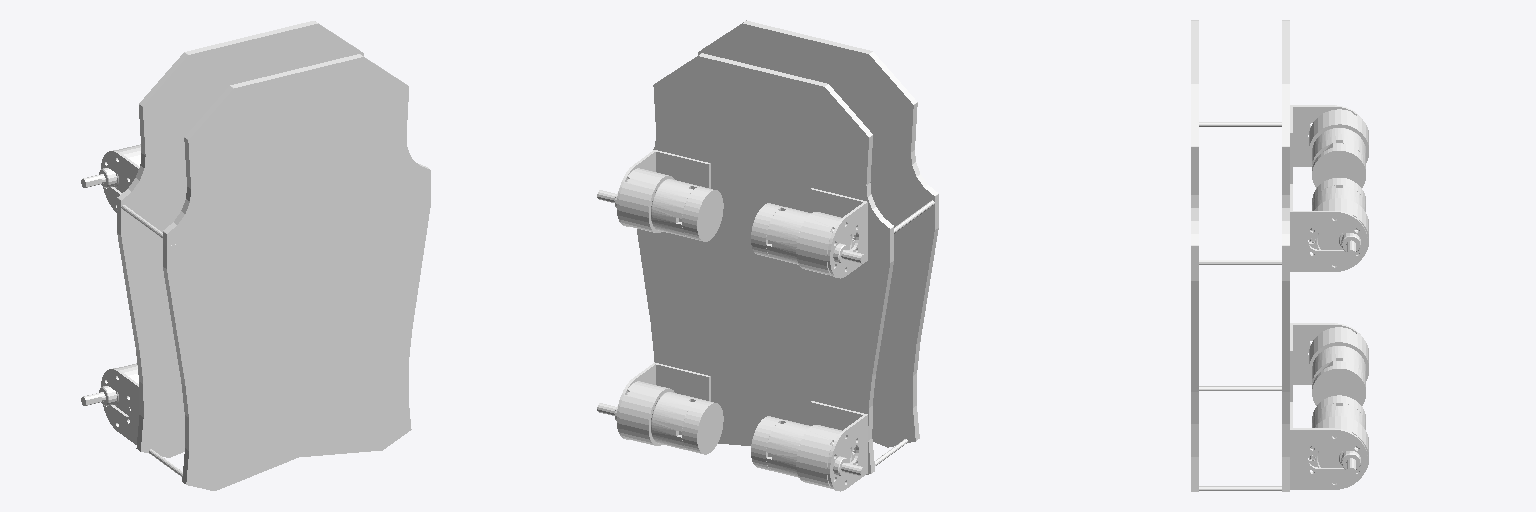
The robot description file, URDF, robot "CyberNaviRobot":
<?xml version="1.0" encoding="utf-8"?>
<robot
  name="CyberNaviRobot">
  <link
    name="base_link">
    <inertial>
      <origin
        xyz="-0.0126930979005275 0.00191328701604972 0.138027242309266"
        rpy="0 0 0" />
      <mass
        value="1.02316767990512" />
      <inertia
        ixx="0.00139586884914313"
        ixy="-1.1634425915606E-06"
        ixz="2.08900696909113E-08"
        iyy="0.00163816424060367"
        iyz="1.3906877128818E-07"
        izz="0.00212627787861002" />
    </inertial>
    <visual>
      <origin
        xyz="0 0 0"
        rpy="0 0 0" />
      <geometry>
        <mesh
          filename="package://cpp01_urdf/meshes/base_link.STL" />
      </geometry>
      <material
        name="">
        <color
          rgba="1 1 1 1" />
      </material>
    </visual>
    <collision>
      <origin
        xyz="0 0 0"
        rpy="0 0 0" />
      <geometry>
        <mesh
          filename="package://cpp01_urdf/meshes/base_link.STL" />
      </geometry>
    </collision>
  </link>
  <link
    name="left_front_wheel_link">
    <inertial>
      <origin
        xyz="-3.0979511909876E-06 0.0173322020637727 4.43766253017258E-06"
        rpy="0 0 0" />
      <mass
        value="0.0503853041294886" />
      <inertia
        ixx="5.77203859894131E-06"
        ixy="-6.39490308551869E-10"
        ixz="-6.55101507497994E-10"
        iyy="7.74120907350755E-06"
        iyz="1.14467480632514E-09"
        izz="5.77288622221224E-06" />
    </inertial>
    <visual>
      <origin
        xyz="0 0 0"
        rpy="0 0 0" />
      <geometry>
        <mesh
          filename="package://cpp01_urdf/meshes/left_front_wheel_link.STL" />
      </geometry>
      <material
        name="">
        <color
          rgba="1 1 1 1" />
      </material>
    </visual>
    <collision>
      <origin
        xyz="0 0 0"
        rpy="0 0 0" />
      <geometry>
        <mesh
          filename="package://cpp01_urdf/meshes/left_front_wheel_link.STL" />
      </geometry>
    </collision>
  </link>
  <joint
    name="left_front_wheel_joint"
    type="continuous">
    <origin
      xyz="0.094976 0.076703 0.038001"
      rpy="0 0 0" />
    <parent
      link="base_link" />
    <child
      link="left_front_wheel_link" />
    <axis
      xyz="0 1 0" />
  </joint>
  <link
    name="left_rear_wheel_link">
    <inertial>
      <origin
        xyz="-3.06188346035907E-06 0.017331873242395 -5.84140984641324E-06"
        rpy="0 0 0" />
      <mass
        value="0.0503852022031433" />
      <inertia
        ixx="5.7719914844331E-06"
        ixy="-6.47591418647473E-10"
        ixz="6.3996728285628E-10"
        iyy="7.74122667602425E-06"
        iyz="-1.13209672720901E-09"
        izz="5.77285855433357E-06" />
    </inertial>
    <visual>
      <origin
        xyz="0 0 0"
        rpy="0 0 0" />
      <geometry>
        <mesh
          filename="package://cpp01_urdf/meshes/left_rear_wheel_link.STL" />
      </geometry>
      <material
        name="">
        <color
          rgba="1 1 1 1" />
      </material>
    </visual>
    <collision>
      <origin
        xyz="0 0 0"
        rpy="0 0 0" />
      <geometry>
        <mesh
          filename="package://cpp01_urdf/meshes/left_rear_wheel_link.STL" />
      </geometry>
    </collision>
  </link>
  <joint
    name="left_rear_wheel_joint"
    type="continuous">
    <origin
      xyz="-0.078024 0.076703 0.038001"
      rpy="0 0 0" />
    <parent
      link="base_link" />
    <child
      link="left_rear_wheel_link" />
    <axis
      xyz="0 1 0" />
  </joint>
  <link
    name="right_front_wheel_link">
    <inertial>
      <origin
        xyz="3.06240360546661E-06 -0.0173318735620233 -5.84117647387666E-06"
        rpy="0 0 0" />
      <mass
        value="0.0503852021760132" />
      <inertia
        ixx="5.77199099297903E-06"
        ixy="-6.47832070333766E-10"
        ixz="-6.39570296767498E-10"
        iyy="7.74122684098967E-06"
        iyz="1.13229861557678E-09"
        izz="5.7728593340892E-06" />
    </inertial>
    <visual>
      <origin
        xyz="0 0 0"
        rpy="0 0 0" />
      <geometry>
        <mesh
          filename="package://cpp01_urdf/meshes/right_front_wheel_link.STL" />
      </geometry>
      <material
        name="">
        <color
          rgba="1 1 1 1" />
      </material>
    </visual>
    <collision>
      <origin
        xyz="0 0 0"
        rpy="0 0 0" />
      <geometry>
        <mesh
          filename="package://cpp01_urdf/meshes/right_front_wheel_link.STL" />
      </geometry>
    </collision>
  </link>
  <joint
    name="right_front_wheel_joint"
    type="continuous">
    <origin
      xyz="0.094976 -0.075297 0.038001"
      rpy="0 0 0" />
    <parent
      link="base_link" />
    <child
      link="right_front_wheel_link" />
    <axis
      xyz="0 1 0" />
  </joint>
  <link
    name="right_rear_wheel_link">
    <inertial>
      <origin
        xyz="3.09795119093903E-06 -0.0173322020637727 4.43766253057504E-06"
        rpy="0 0 0" />
      <mass
        value="0.0503853041294886" />
      <inertia
        ixx="5.77203859894127E-06"
        ixy="-6.39490308545873E-10"
        ixz="6.55101507484353E-10"
        iyy="7.7412090735075E-06"
        iyz="-1.14467480634659E-09"
        izz="5.77288622221223E-06" />
    </inertial>
    <visual>
      <origin
        xyz="0 0 0"
        rpy="0 0 0" />
      <geometry>
        <mesh
          filename="package://cpp01_urdf/meshes/right_rear_wheel_link.STL" />
      </geometry>
      <material
        name="">
        <color
          rgba="1 1 1 1" />
      </material>
    </visual>
    <collision>
      <origin
        xyz="0 0 0"
        rpy="0 0 0" />
      <geometry>
        <mesh
          filename="package://cpp01_urdf/meshes/right_rear_wheel_link.STL" />
      </geometry>
    </collision>
  </link>
  <joint
    name="right_rear_wheel_joint"
    type="continuous">
    <origin
      xyz="-0.078024 -0.075297 0.038001"
      rpy="0 0 0" />
    <parent
      link="base_link" />
    <child
      link="right_rear_wheel_link" />
    <axis
      xyz="0 1 0" />
  </joint>
  <link
    name="link1">
    <inertial>
      <origin
        xyz="0.00667902683248248 -0.000617925084982596 0.0234455072147809"
        rpy="0 0 0" />
      <mass
        value="0.0586503298513903" />
      <inertia
        ixx="1.45885437825898E-05"
        ixy="1.52166973047874E-07"
        ixz="-6.11635522611016E-11"
        iyy="1.53643210446061E-05"
        iyz="1.45081779343097E-07"
        izz="2.71785457903366E-05" />
    </inertial>
    <visual>
      <origin
        xyz="0 0 0"
        rpy="0 0 0" />
      <geometry>
        <mesh
          filename="package://cpp01_urdf/meshes/link1.STL" />
      </geometry>
      <material
        name="">
        <color
          rgba="0.741176470588235 0.901960784313726 0.956862745098039 1" />
      </material>
    </visual>
    <collision>
      <origin
        xyz="0 0 0"
        rpy="0 0 0" />
      <geometry>
        <mesh
          filename="package://cpp01_urdf/meshes/link1.STL" />
      </geometry>
    </collision>
  </link>
  <joint
    name="joint1"
    type="revolute">
    <origin
      xyz="0.054476 0.00070272 0.156"
      rpy="0 0 0" />
    <parent
      link="base_link" />
    <child
      link="link1" />
    <axis
      xyz="0 0 -1" />
    <limit
      lower="-1.57"
      upper="1.57"
      effort="0"
      velocity="0" />
  </joint>
  <link
    name="link2">
    <inertial>
      <origin
        xyz="-9.85322934354826E-16 -0.0187068878492825 0.0525000000000002"
        rpy="0 0 0" />
      <mass
        value="0.0182961255655768" />
      <inertia
        ixx="1.62397575138106E-05"
        ixy="1.347414273068E-20"
        ixz="1.05563798552101E-19"
        iyy="7.56857037469834E-06"
        iyz="1.05493260809061E-20"
        izz="1.05132687532735E-05" />
    </inertial>
    <visual>
      <origin
        xyz="0 0 0"
        rpy="0 0 0" />
      <geometry>
        <mesh
          filename="package://cpp01_urdf/meshes/link2.STL" />
      </geometry>
      <material
        name="">
        <color
          rgba="0.741176470588235 0.901960784313726 0.956862745098039 1" />
      </material>
    </visual>
    <collision>
      <origin
        xyz="0 0 0"
        rpy="0 0 0" />
      <geometry>
        <mesh
          filename="package://cpp01_urdf/meshes/link2.STL" />
      </geometry>
    </collision>
  </link>
  <joint
    name="joint2"
    type="revolute">
    <origin
      xyz="0.0005 0.0227 0.0315"
      rpy="0 0 0" />
    <parent
      link="link1" />
    <child
      link="link2" />
    <axis
      xyz="0 -1 0" />
    <limit
      lower="-1.57"
      upper="1.57"
      effort="0"
      velocity="0" />
  </joint>
  <link
    name="link3">
    <inertial>
      <origin
        xyz="-0.00111507938513392 -0.0229699776837651 0.022150414355608"
        rpy="0 0 0" />
      <mass
        value="0.049761015025666" />
      <inertia
        ixx="1.97699131875969E-05"
        ixy="1.45081779342829E-07"
        ixz="-1.29484660544253E-07"
        iyy="1.16329572702889E-05"
        iyz="1.52071961891174E-07"
        izz="1.21511693273578E-05" />
    </inertial>
    <visual>
      <origin
        xyz="0 0 0"
        rpy="0 0 0" />
      <geometry>
        <mesh
          filename="package://cpp01_urdf/meshes/link3.STL" />
      </geometry>
      <material
        name="">
        <color
          rgba="0.741176470588235 0.901960784313726 0.956862745098039 1" />
      </material>
    </visual>
    <collision>
      <origin
        xyz="0 0 0"
        rpy="0 0 0" />
      <geometry>
        <mesh
          filename="package://cpp01_urdf/meshes/link3.STL" />
      </geometry>
    </collision>
  </link>
  <joint
    name="joint3"
    type="revolute">
    <origin
      xyz="0 0.001 0.105"
      rpy="0 0 0" />
    <parent
      link="link2" />
    <child
      link="link3" />
    <axis
      xyz="0 1 0" />
    <limit
      lower="-1.57"
      upper="1.57"
      effort="0"
      velocity="0" />
  </joint>
  <link
    name="link4">
    <inertial>
      <origin
        xyz="-0.0213103124095009 -0.0185844162741873 0.0110816058821624"
        rpy="0 0 0" />
      <mass
        value="0.0878001321766832" />
      <inertia
        ixx="2.46599779245465E-05"
        ixy="1.45021327668014E-07"
        ixz="-2.90593993899019E-07"
        iyy="1.6070287359599E-05"
        iyz="3.04143941476546E-07"
        izz="1.79892545898004E-05" />
    </inertial>
    <visual>
      <origin
        xyz="0 0 0"
        rpy="0 0 0" />
      <geometry>
        <mesh
          filename="package://cpp01_urdf/meshes/link4.STL" />
      </geometry>
      <material
        name="">
        <color
          rgba="0.741176470588235 0.901960784313726 0.956862745098039 1" />
      </material>
    </visual>
    <collision>
      <origin
        xyz="0 0 0"
        rpy="0 0 0" />
      <geometry>
        <mesh
          filename="package://cpp01_urdf/meshes/link4.STL" />
      </geometry>
    </collision>
  </link>
  <joint
    name="joint4"
    type="revolute">
    <origin
      xyz="0.0010378 -0.0015 0.0975"
      rpy="0 0 0" />
    <parent
      link="link3" />
    <child
      link="link4" />
    <axis
      xyz="0 1 0" />
    <limit
      lower="-0.8"
      upper="1.57"
      effort="0"
      velocity="0" />
  </joint>
  <link
    name="link5">
    <inertial>
      <origin
        xyz="0.0170982452822612 -0.00181857593758557 0.0338763871147772"
        rpy="0 0 0" />
      <mass
        value="0.0430173483223723" />
      <inertia
        ixx="8.16764387727323E-06"
        ixy="-1.64540582497823E-09"
        ixz="-9.56284780635361E-11"
        iyy="5.73687952145364E-06"
        iyz="-1.62969767998056E-08"
        izz="1.08202419601291E-05" />
    </inertial>
    <visual>
      <origin
        xyz="0 0 0"
        rpy="0 0 0" />
      <geometry>
        <mesh
          filename="package://cpp01_urdf/meshes/link5.STL" />
      </geometry>
      <material
        name="">
        <color
          rgba="0.741176470588235 0.901960784313726 0.956862745098039 1" />
      </material>
    </visual>
    <collision>
      <origin
        xyz="0 0 0"
        rpy="0 0 0" />
      <geometry>
        <mesh
          filename="package://cpp01_urdf/meshes/link5.STL" />
      </geometry>
    </collision>
  </link>
  <joint
    name="joint5"
    type="revolute">
    <origin
      xyz="-0.027 -0.0222 0.0432"
      rpy="0 0 0" />
    <parent
      link="link4" />
    <child
      link="link5" />
    <axis
      xyz="0 0 -1" />
    <limit
      lower="-1.57"
      upper="1.57"
      effort="0"
      velocity="0" />
  </joint>
  <link
    name="link6">
    <inertial>
      <origin
        xyz="-0.000194093105239088 -0.00406170911599912 0.00427793516199637"
        rpy="0 0 0" />
      <mass
        value="0.00295713424801494" />
      <inertia
        ixx="3.69051910011208E-07"
        ixy="1.37518807205944E-21"
        ixz="-1.83407587972863E-21"
        iyy="1.97507512195388E-07"
        iyz="1.30296235803104E-07"
        izz="1.83985404612553E-07" />
    </inertial>
    <visual>
      <origin
        xyz="0 0 0"
        rpy="0 0 0" />
      <geometry>
        <mesh
          filename="package://cpp01_urdf/meshes/link6.STL" />
      </geometry>
      <material
        name="">
        <color
          rgba="1 1 1 1" />
      </material>
    </visual>
    <collision>
      <origin
        xyz="0 0 0"
        rpy="0 0 0" />
      <geometry>
        <mesh
          filename="package://cpp01_urdf/meshes/link6.STL" />
      </geometry>
    </collision>
  </link>
  <joint
    name="joint6"
    type="revolute">
    <origin
      xyz="-0.005 -0.0125 0.036042"
      rpy="0 0 0" />
    <parent
      link="link5" />
    <child
      link="link6" />
    <axis
      xyz="1 0 0" />
    <limit
      lower="-0.8"
      upper="0.8"
      effort="0"
      velocity="0" />
  </joint>
  <link
    name="link7">
    <inertial>
      <origin
        xyz="0.0108163554531008 -0.00658804624516091 0.0193552201367155"
        rpy="0 0 0" />
      <mass
        value="0.0110869938441044" />
      <inertia
        ixx="2.52356347882992E-06"
        ixy="-3.99343051177411E-14"
        ixz="-3.44198258093944E-13"
        iyy="2.26638567960652E-06"
        iyz="-3.12207718590886E-07"
        izz="7.09396223566293E-07" />
    </inertial>
    <visual>
      <origin
        xyz="0 0 0"
        rpy="0 0 0" />
      <geometry>
        <mesh
          filename="package://cpp01_urdf/meshes/link7.STL" />
      </geometry>
      <material
        name="">
        <color
          rgba="0 0.137254901960784 1 1" />
      </material>
    </visual>
    <collision>
      <origin
        xyz="0 0 0"
        rpy="0 0 0" />
      <geometry>
        <mesh
          filename="package://cpp01_urdf/meshes/link7.STL" />
      </geometry>
    </collision>
  </link>
  <joint
    name="joint7"
    type="revolute">
    <origin
      xyz="-0.007 -0.024099 0.025382"
      rpy="0 0 0" />
    <parent
      link="link6" />
    <child
      link="link7" />
    <axis
      xyz="1 0 0" />
    <limit
      lower="-0.8"
      upper="0.8"
      effort="0"
      velocity="0" />
  </joint>
  <link
    name="link8">
    <inertial>
      <origin
        xyz="0.00349999999999803 0.00657959409149543 0.00672799311105976"
        rpy="0 0 0" />
      <mass
        value="0.0018586896201087" />
      <inertia
        ixx="3.62044301910542E-07"
        ixy="7.39648872268616E-22"
        ixz="-9.97338467324055E-22"
        iyy="1.85573920991122E-07"
        iyz="-1.4156712587855E-07"
        izz="1.79258415349583E-07" />
    </inertial>
    <visual>
      <origin
        xyz="0 0 0"
        rpy="0 0 0" />
      <geometry>
        <mesh
          filename="package://cpp01_urdf/meshes/link8.STL" />
      </geometry>
      <material
        name="">
        <color
          rgba="0.749019607843137 0.749019607843137 0.749019607843137 1" />
      </material>
    </visual>
    <collision>
      <origin
        xyz="0 0 0"
        rpy="0 0 0" />
      <geometry>
        <mesh
          filename="package://cpp01_urdf/meshes/link8.STL" />
      </geometry>
    </collision>
  </link>
  <joint
    name="joint8"
    type="revolute">
    <origin
      xyz="-0.0095 0.0125 0.036042"
      rpy="0 0 0" />
    <parent
      link="link5" />
    <child
      link="link8" />
    <axis
      xyz="-1 0 0" />
    <limit
      lower="-0.8"
      upper="0.8"
      effort="0"
      velocity="0" />
  </joint>
  <link
    name="link9">
    <inertial>
      <origin
        xyz="0.0108163558187058 0.00614995351026065 0.0192779549189973"
        rpy="0 0 0" />
      <mass
        value="0.0110869919561476" />
      <inertia
        ixx="2.52356011937649E-06"
        ixy="6.32729829099977E-14"
        ixz="-4.47080034609005E-13"
        iyy="2.26639573880164E-06"
        iyz="3.12169922164552E-07"
        izz="7.09382735241388E-07" />
    </inertial>
    <visual>
      <origin
        xyz="0 0 0"
        rpy="0 0 0" />
      <geometry>
        <mesh
          filename="package://cpp01_urdf/meshes/link9.STL" />
      </geometry>
      <material
        name="">
        <color
          rgba="1 1 1 1" />
      </material>
    </visual>
    <collision>
      <origin
        xyz="0 0 0"
        rpy="0 0 0" />
      <geometry>
        <mesh
          filename="package://cpp01_urdf/meshes/link9.STL" />
      </geometry>
    </collision>
  </link>
  <joint
    name="joint9"
    type="revolute">
    <origin
      xyz="-0.0025 0.024471 0.025023"
      rpy="0 0 0" />
    <parent
      link="link8" />
    <child
      link="link9" />
    <axis
      xyz="1 0 0" />
    <limit
      lower="-0.8"
      upper="0.8"
      effort="0"
      velocity="0" />
  </joint>
  <link
    name="link10">
    <inertial>
      <origin
        xyz="0.00750000000000017 -0.012774767030706 0.0120023151330316"
        rpy="0 0 0" />
      <mass
        value="0.00108778506953505" />
      <inertia
        ixx="1.71922619588064E-07"
        ixy="6.57446087648168E-22"
        ixz="-6.59404677796195E-22"
        iyy="9.10794072426595E-08"
        iyz="8.29113514522289E-08"
        izz="8.24748899497073E-08" />
    </inertial>
    <visual>
      <origin
        xyz="0 0 0"
        rpy="0 0 0" />
      <geometry>
        <mesh
          filename="package://cpp01_urdf/meshes/link10.STL" />
      </geometry>
      <material
        name="">
        <color
          rgba="1 1 1 1" />
      </material>
    </visual>
    <collision>
      <origin
        xyz="0 0 0"
        rpy="0 0 0" />
      <geometry>
        <mesh
          filename="package://cpp01_urdf/meshes/link10.STL" />
      </geometry>
    </collision>
  </link>
  <joint
    name="joint10"
    type="revolute">
    <origin
      xyz="-0.008 -0.032703 0.028688"
      rpy="0 0 0" />
    <parent
      link="link5" />
    <child
      link="link10" />
    <axis
      xyz="1 0 0" />
    <limit
      lower="-0.8"
      upper="0.8"
      effort="0"
      velocity="0" />
  </joint>
  <link
    name="link11">
    <inertial>
      <origin
        xyz="0.00749999999999994 0.0129506495019428 0.0118123207260478"
        rpy="0 0 0" />
      <mass
        value="0.00108778506953506" />
      <inertia
        ixx="1.71922619588065E-07"
        ixy="4.61905993994358E-22"
        ixz="4.74052940855536E-22"
        iyy="8.86285716066098E-08"
        iyz="-8.30022521497621E-08"
        izz="8.49257255857574E-08" />
    </inertial>
    <visual>
      <origin
        xyz="0 0 0"
        rpy="0 0 0" />
      <geometry>
        <mesh
          filename="package://cpp01_urdf/meshes/link11.STL" />
      </geometry>
      <material
        name="">
        <color
          rgba="1 1 1 1" />
      </material>
    </visual>
    <collision>
      <origin
        xyz="0 0 0"
        rpy="0 0 0" />
      <geometry>
        <mesh
          filename="package://cpp01_urdf/meshes/link11.STL" />
      </geometry>
    </collision>
  </link>
  <joint
    name="joint11"
    type="revolute">
    <origin
      xyz="-0.008 0.032703 0.028688"
      rpy="0 0 0" />
    <parent
      link="link5" />
    <child
      link="link11" />
    <axis
      xyz="-1 0 0" />
    <limit
      lower="-0.8"
      upper="0.8"
      effort="0"
      velocity="0" />
  </joint>
</robot>

--- What the picture shows (computed from the rendered views, not written in the file) ---
Views: 3 orthographic renders of the robot side by side, from view 1: azimuth 30°, elevation 25°; view 2: azimuth 150°, elevation 25°; view 3: azimuth 270°, elevation 25°.
Model CyberNaviRobot with 16 links and 15 joints (11 revolute, 4 continuous), rooted at base_link, posed all joints at 0.
Visible links, largest first — view 1: base_link; view 2: base_link; view 3: base_link.
Boxes of the visible links, x1,y1,x2,y2 form: base_link: [81, 21, 430, 490]; base_link: [597, 20, 938, 491]; base_link: [1191, 20, 1368, 491].
Bounding box of the posed robot: 0.188 × 0.1079 × 0.2652 m (x, y, z).
1 mesh visuals loaded from 16 distinct referenced files (1 binary STL); not drawn: 15 (reference not matched to a file when rendering).